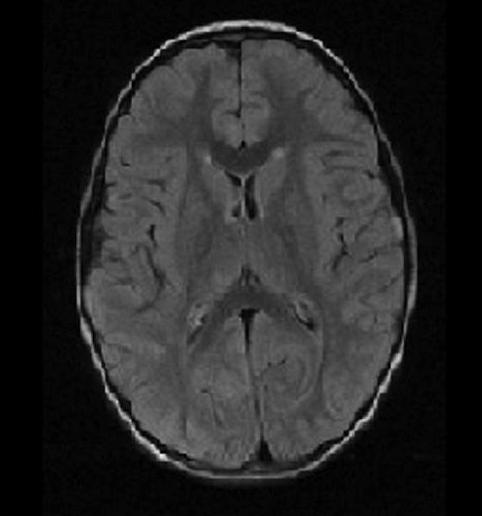Normal_Brain: (1, 1, 473, 516)
